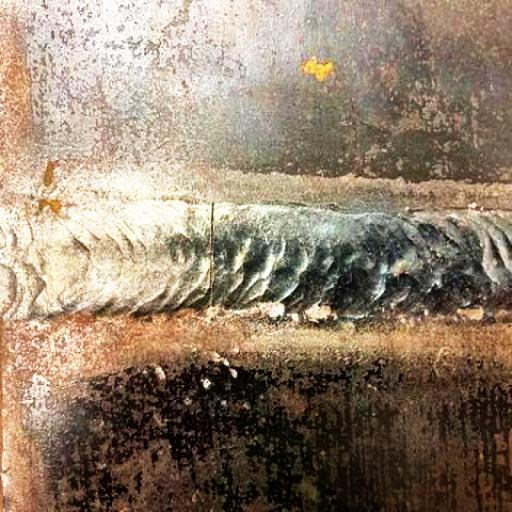crack: (193, 199, 232, 320)
